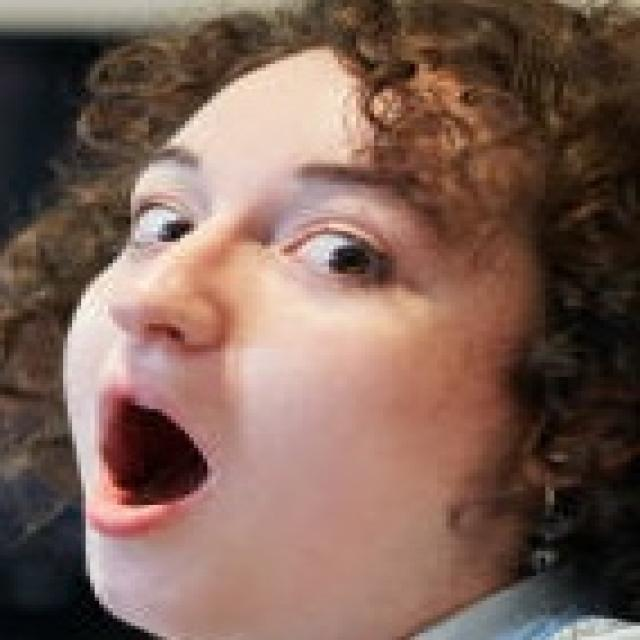Anxiety: (56, 42, 558, 636)
